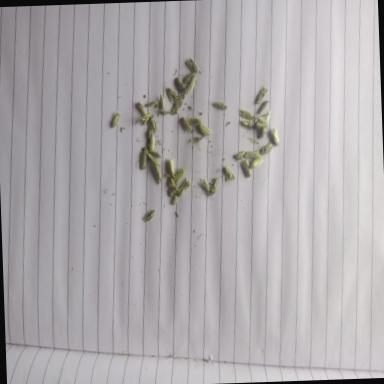pbw: (176, 180, 192, 197), (224, 164, 236, 184), (138, 146, 148, 170), (172, 168, 186, 184), (255, 87, 268, 104), (166, 86, 178, 104), (249, 154, 264, 168), (186, 57, 198, 74), (238, 108, 255, 120), (210, 176, 220, 196), (241, 158, 251, 178), (174, 94, 185, 112), (185, 74, 196, 92), (200, 176, 211, 194), (198, 122, 212, 136), (142, 209, 156, 222), (147, 152, 160, 166), (111, 110, 121, 128), (153, 164, 162, 184), (271, 127, 280, 146), (240, 120, 254, 132), (138, 112, 152, 124), (258, 100, 270, 114), (181, 116, 191, 132), (168, 176, 177, 193), (149, 116, 158, 132), (183, 72, 193, 86), (176, 76, 186, 90), (214, 100, 228, 110), (137, 101, 146, 116), (244, 150, 259, 159), (146, 127, 154, 142), (168, 157, 174, 177), (188, 117, 201, 126), (255, 122, 269, 130), (235, 150, 246, 160), (159, 94, 165, 112), (148, 149, 160, 158), (172, 194, 180, 205), (260, 126, 266, 138), (158, 110, 168, 115)
